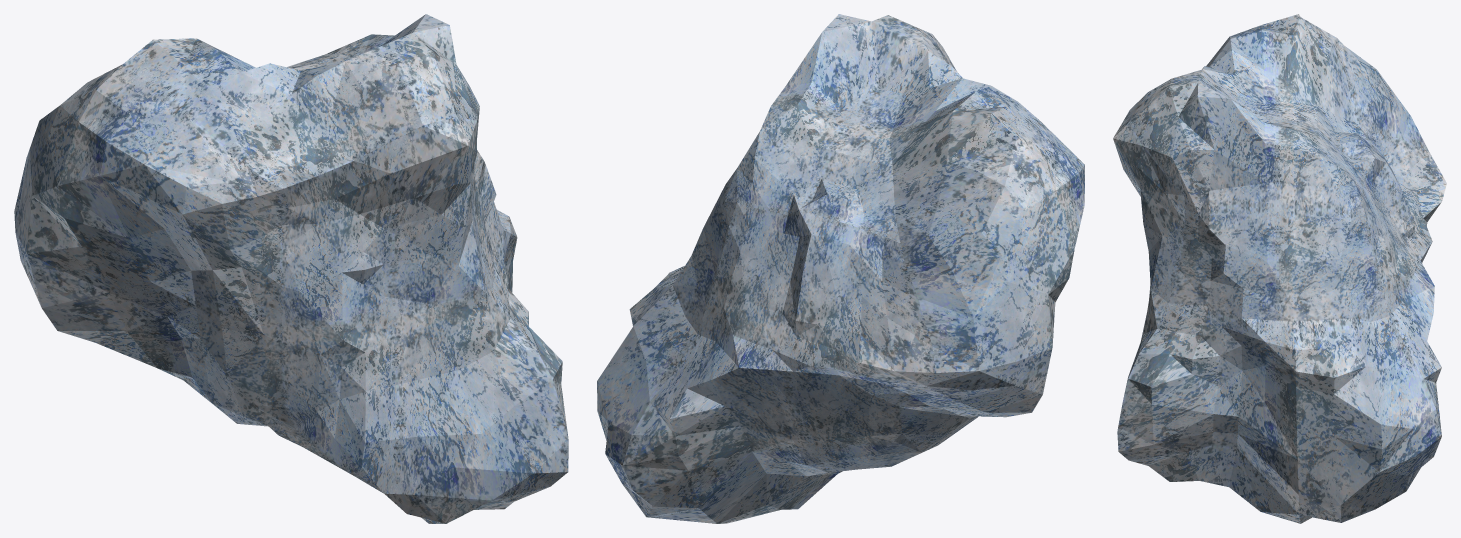
File: asteroid_ice_large_s02_l0.fbx
The picture shows the model from 3 angles, left to right: view 1: azimuth 30°, elevation 25°; view 2: azimuth 150°, elevation 25°; view 3: azimuth 270°, elevation 25°; orthographic projection. The views are drawn at different scales.
Parts seen in each view (by area): view 1: mesh_node; view 2: mesh_node; view 3: mesh_node.
Part boxes in pixels (bbox=[...]): mesh_node: bbox=[14, 14, 568, 523]; mesh_node: bbox=[597, 14, 1084, 523]; mesh_node: bbox=[1113, 14, 1446, 523].
Bounding box in the file's own units: 112 × 118 × 88.15.
Materials: 1 (1 with a texture image).
